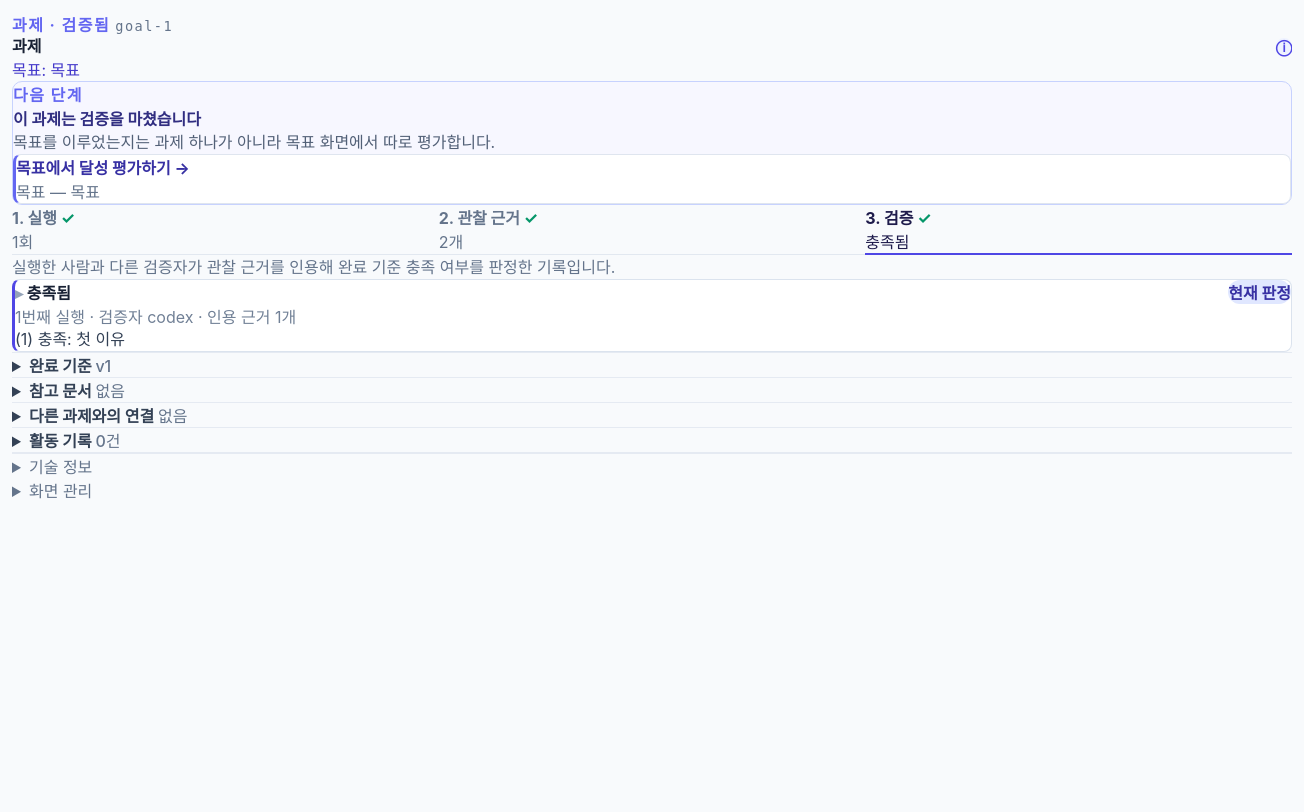
Test: Goal Loop workspace components › folds evidence and verdicts into cards that show a one-line preview and open to the full record
What coordinates should you click on to do the following:
click the tab "2. 관찰 근거 2개"
I would click on:
 (489, 218)
Its box is [439,205,865,255].
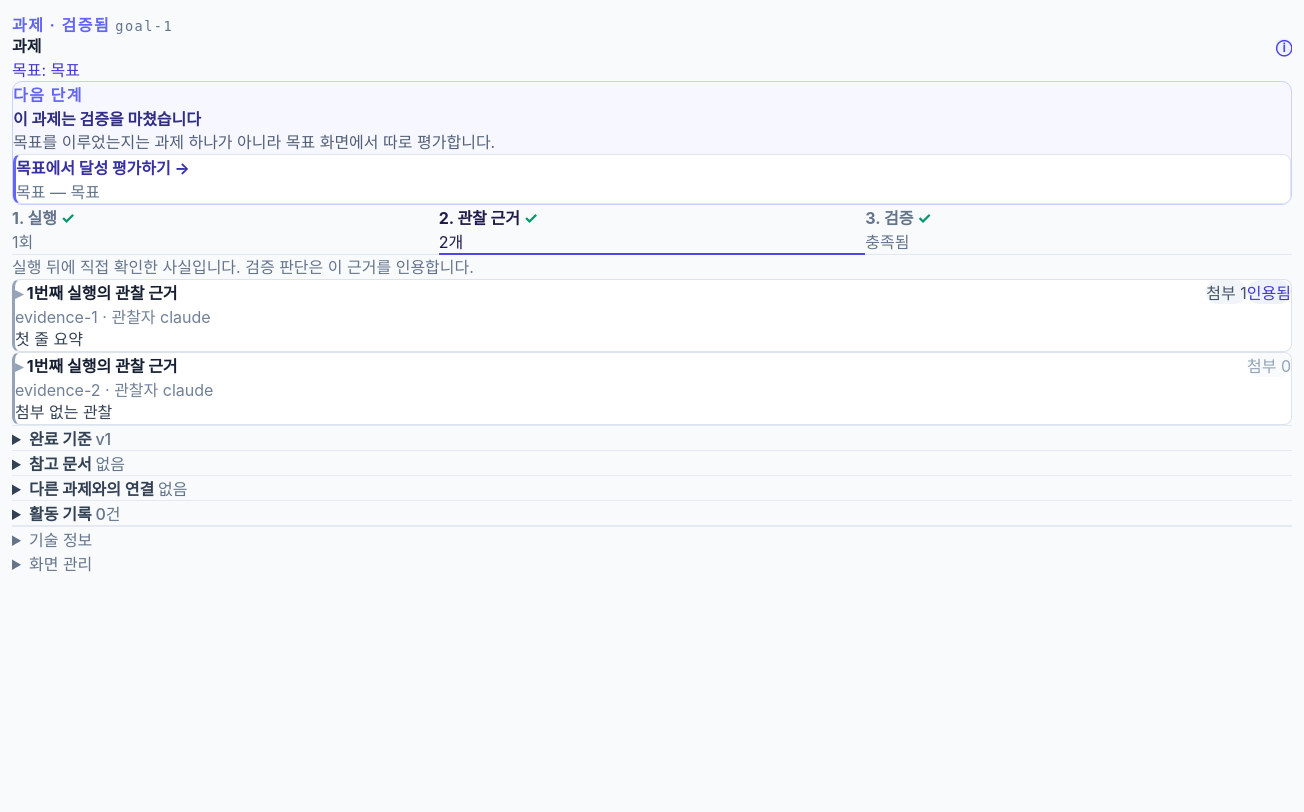
Result: the heading "1번째 실행의 관찰 근거 evidence-1 · 관찰자 claude 첨부 1 인용됨 첫 줄 요약" is shown at [15,280,1291,351]
Result: the text with class "fold-preview" reads "첫 줄 요약" at [15,329,83,349]
Result: the text with class "empty" reads "첨부 0" at [1247,353,1291,377]
What coordinates should you click on to do the following:
click the tab "3. 검증 충족됨"
I would click on:
 (887, 242)
Its box is [865,205,1292,255].
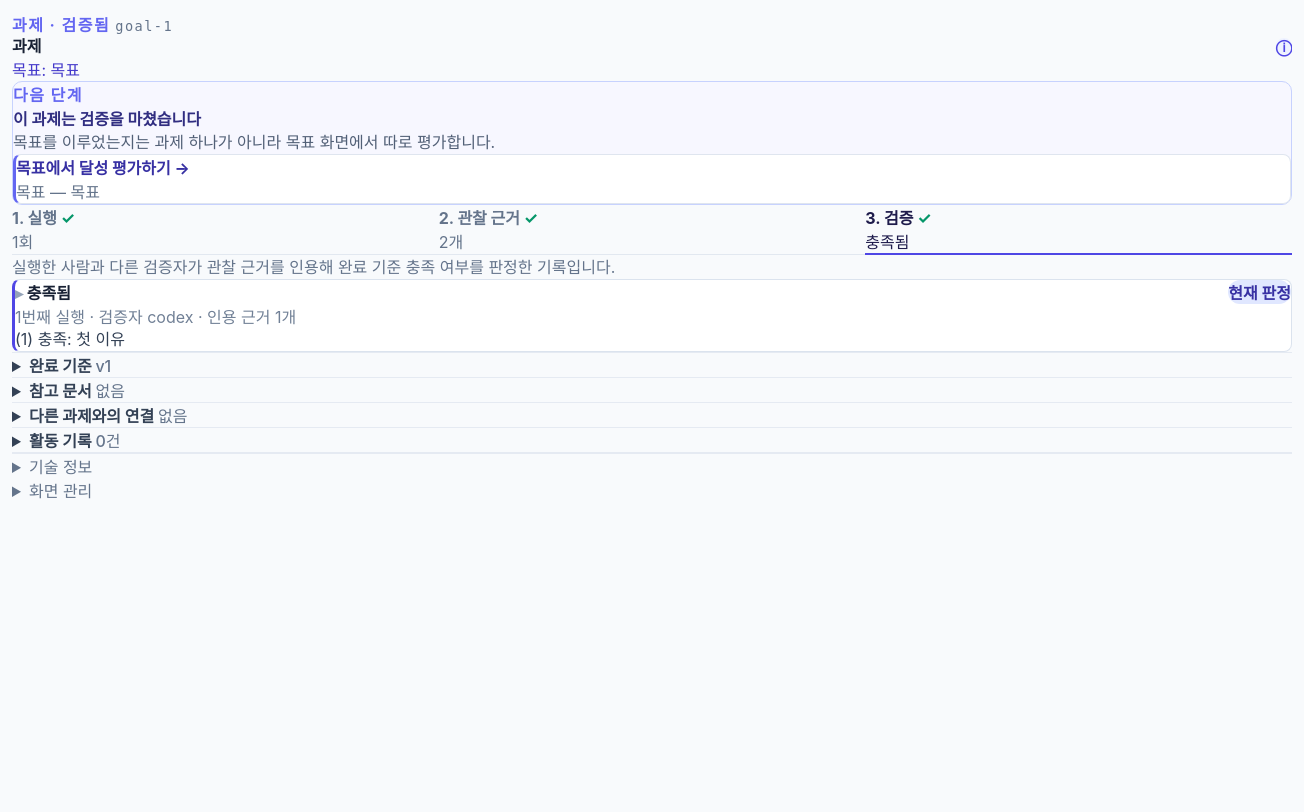
Result: the heading "충족됨 1번째 실행 · 검증자 codex · 인용 근거 1개 현재 판정 (1) 충족: 첫 이유" is shown at [15,280,1291,351]
Result: the text with class "fold-preview" reads "(1) 충족: 첫 이유" at [15,329,125,349]
